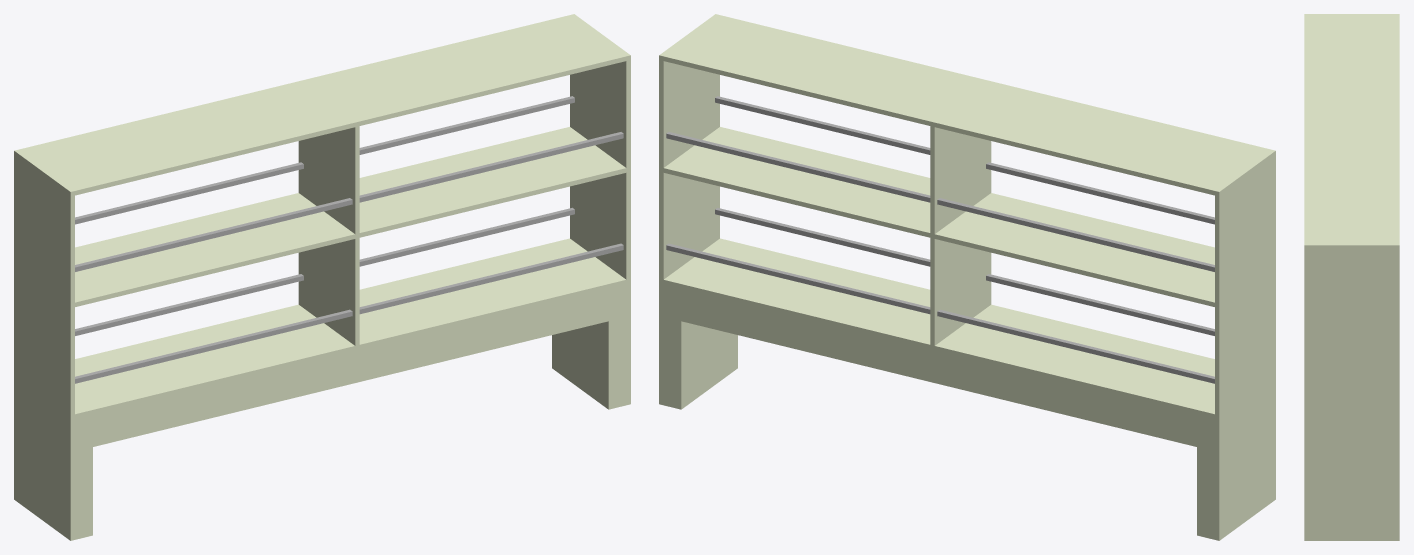
Rendered from Shelf1.fbx.
The picture shows the model from 3 angles, left to right: view 1: azimuth 30°, elevation 25°; view 2: azimuth 150°, elevation 25°; view 3: azimuth 270°, elevation 25°; orthographic projection. The views are drawn at different scales.
Visible parts, largest first — view 1: Shelf1; view 2: Shelf1; view 3: Shelf1.
Boxes of the visible parts, <box> form: Shelf1: <box>14,14,630,540</box>; Shelf1: <box>659,14,1275,540</box>; Shelf1: <box>1304,14,1399,540</box>.
Size of the model in its own units: 12.6 by 7.5 by 2.2.
